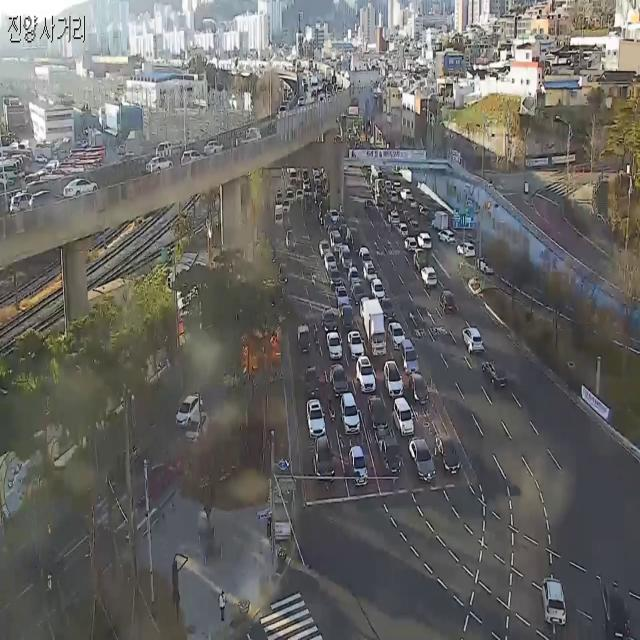bus: (325, 396, 338, 424), (313, 320, 322, 354)
motorcycle: (28, 188, 61, 223), (176, 389, 204, 427), (412, 446, 437, 486), (144, 152, 172, 187), (479, 360, 508, 393), (63, 177, 93, 208), (441, 433, 459, 482), (316, 440, 332, 490), (399, 338, 420, 376), (185, 413, 211, 443), (409, 367, 431, 400), (394, 402, 416, 434), (180, 147, 202, 178), (463, 324, 484, 354), (454, 238, 481, 261), (364, 354, 377, 400), (388, 362, 406, 392), (334, 364, 349, 399), (344, 393, 355, 439), (443, 285, 457, 320), (313, 399, 324, 442), (422, 264, 438, 293), (326, 336, 342, 363), (368, 277, 384, 302), (418, 228, 432, 256), (357, 446, 365, 494), (476, 257, 496, 276), (12, 195, 32, 214), (295, 326, 307, 356), (376, 396, 385, 433), (307, 372, 318, 402), (401, 236, 416, 256), (440, 230, 455, 250), (348, 264, 361, 287), (348, 332, 358, 359), (382, 295, 393, 319), (366, 263, 378, 285), (408, 217, 421, 236), (326, 209, 340, 226), (330, 268, 342, 287), (389, 320, 403, 336), (324, 308, 334, 330), (344, 244, 351, 274), (417, 248, 426, 270), (321, 234, 329, 258), (352, 284, 360, 306), (336, 286, 346, 302), (360, 298, 368, 317), (398, 222, 408, 237), (333, 227, 338, 254), (327, 257, 335, 273), (363, 246, 370, 264)
truck: (377, 429, 402, 479), (366, 304, 386, 346), (203, 138, 227, 168), (156, 140, 185, 163), (432, 210, 448, 232), (341, 300, 353, 328)
